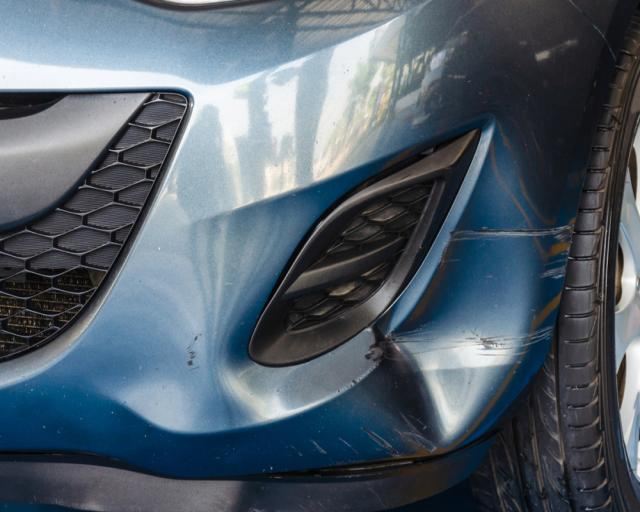dent: (394, 125, 532, 433), (93, 330, 200, 428)
scratch: (522, 217, 578, 350), (306, 417, 437, 461)
